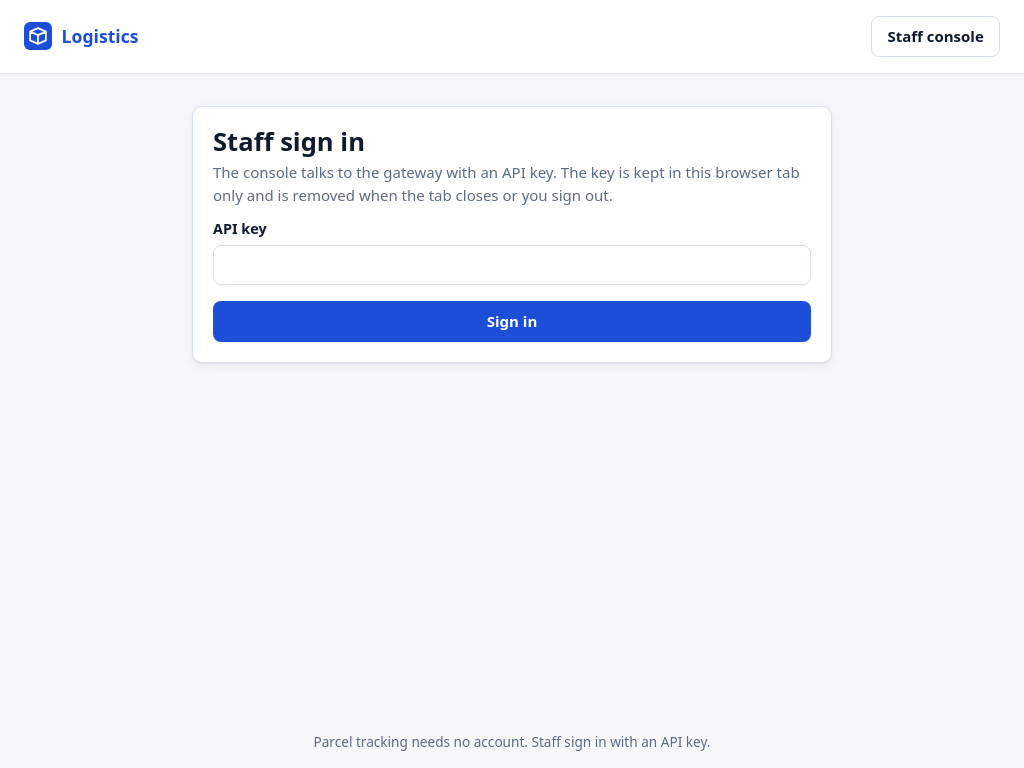
Test: sign in › stores an accepted key and opens the page that was asked for
The width and height of the screenshot is (1024, 768).
Type "test-key-0123456789" into the password field labelled "API key" at (512, 265), box [213, 245, 811, 285]
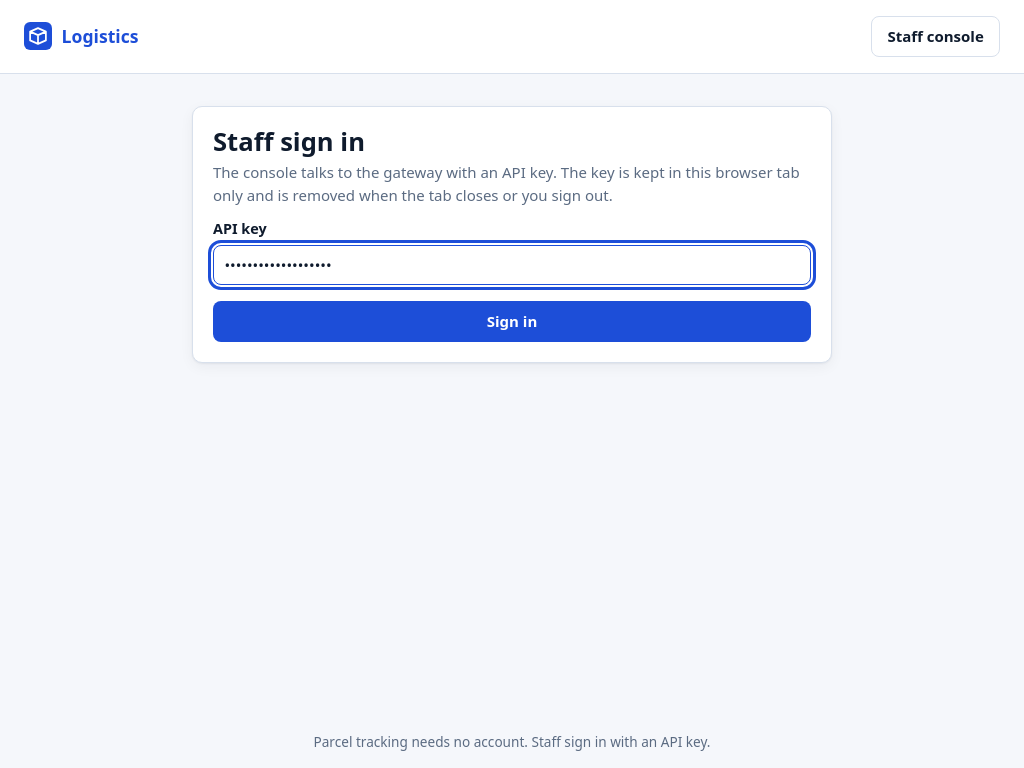
Click the button "Sign in" at (512, 321), box [213, 301, 811, 342]
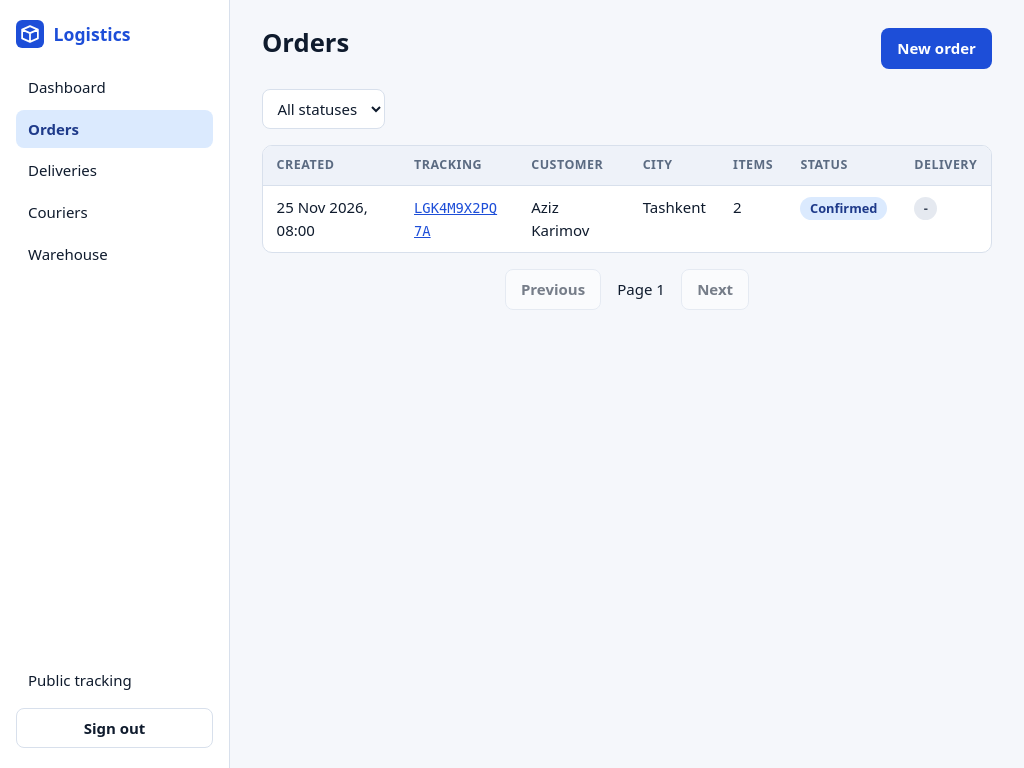
Result: the heading "Orders" is shown at [262, 28, 349, 59]
